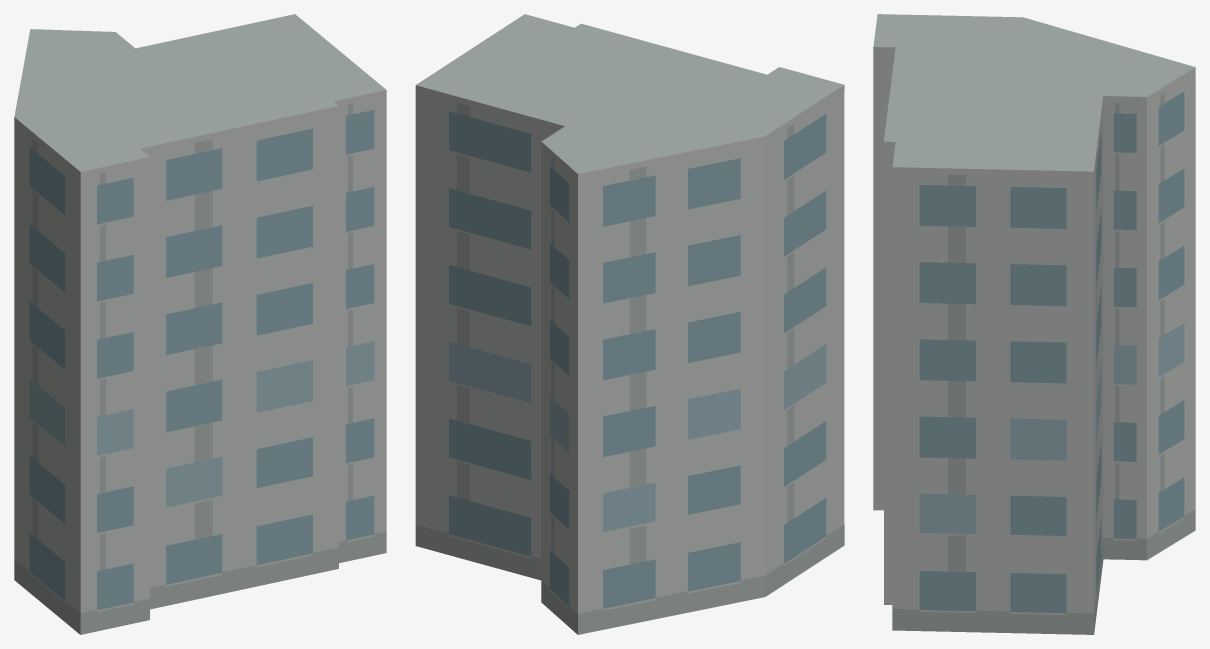
File: survey-upis-33020116.glb
3 views of the same model, side by side, from view 1: azimuth 30°, elevation 25°; view 2: azimuth 150°, elevation 25°; view 3: azimuth 270°, elevation 25° (orthographic).
Parts seen in each view (by area): view 1: survey-upis-33020116.tmp; view 2: survey-upis-33020116.tmp; view 3: survey-upis-33020116.tmp.
Part boxes in pixels (x1,y1,x2,y2): survey-upis-33020116.tmp: [14, 14, 386, 634]; survey-upis-33020116.tmp: [415, 14, 844, 634]; survey-upis-33020116.tmp: [873, 14, 1195, 634].
Size of the model in its own units: 13.29 by 18.2 by 11.48.
